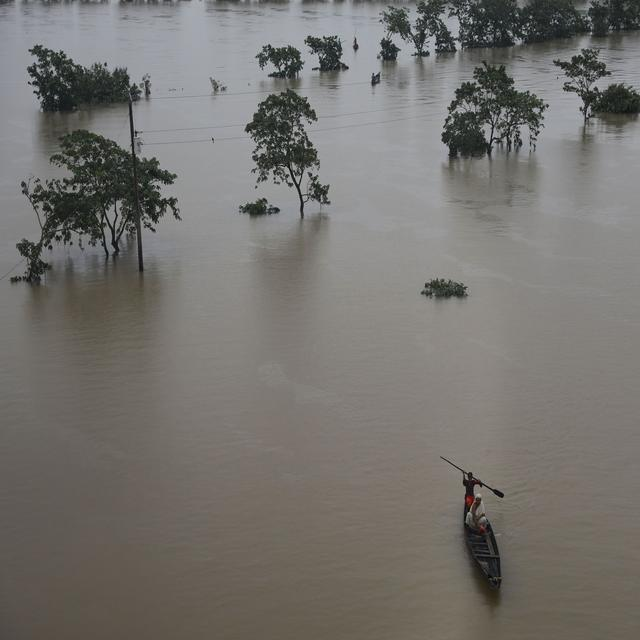Person-RiskLevel3: (443, 458, 492, 540)
